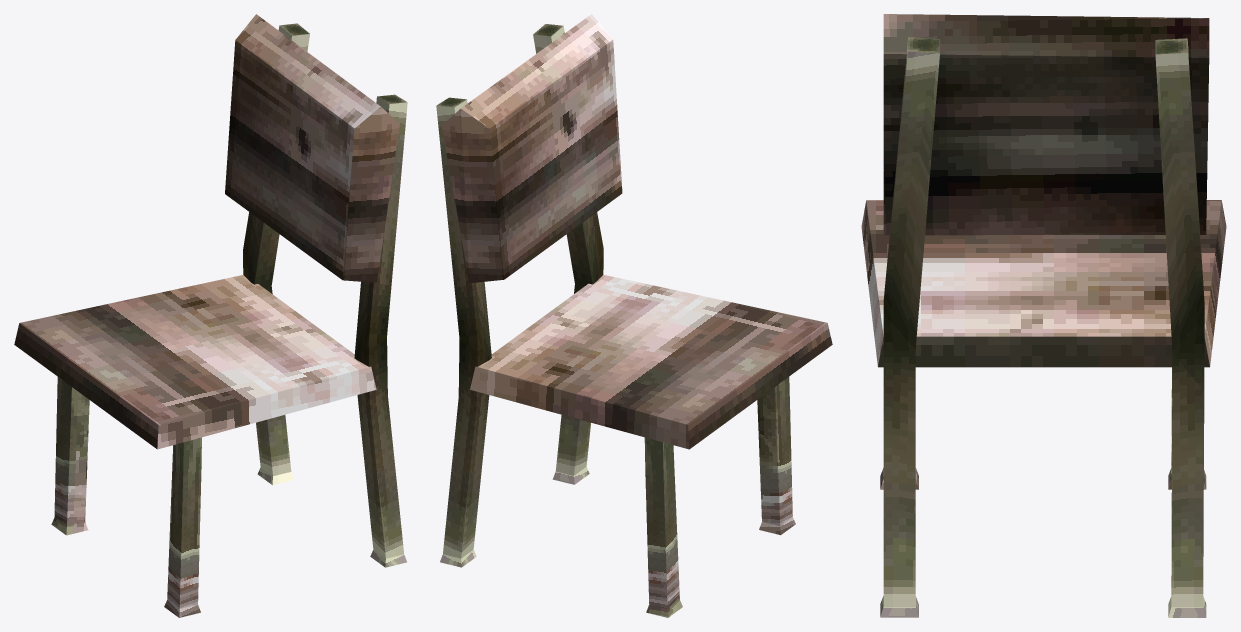
The model's file is prop_chair.glb.
3 views of the same model, side by side, from view 1: azimuth 30°, elevation 25°; view 2: azimuth 150°, elevation 25°; view 3: azimuth 270°, elevation 25° (orthographic). The views are drawn at different scales.
Parts seen in each view (by area): view 1: Chair2; view 2: Chair2; view 3: Chair2.
Part boxes in pixels (x1=…): Chair2: x1=14, y1=14, x2=407, y2=617; Chair2: x1=436, y1=14, x2=832, y2=617; Chair2: x1=861, y1=14, x2=1226, y2=617.
Bounding box in the file's own units: 0.7345 × 1.21 × 0.6778.
1 material, 1 textured.
